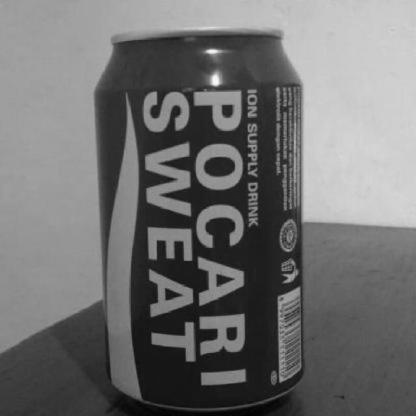alumunium_can: (80, 21, 322, 416)
